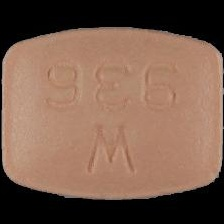35356-926: (0, 0, 224, 224)
